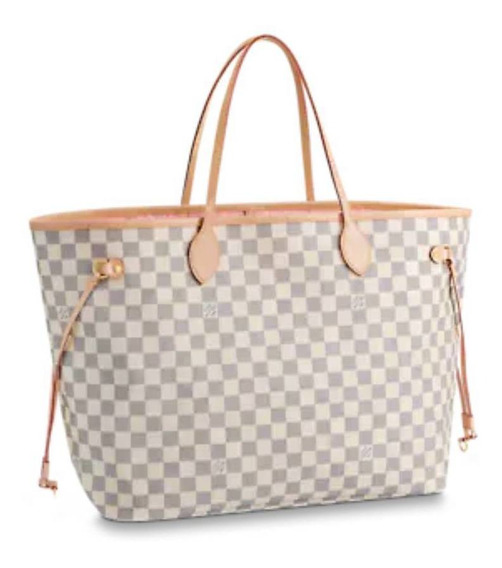cartera: (30, 33, 471, 523)
